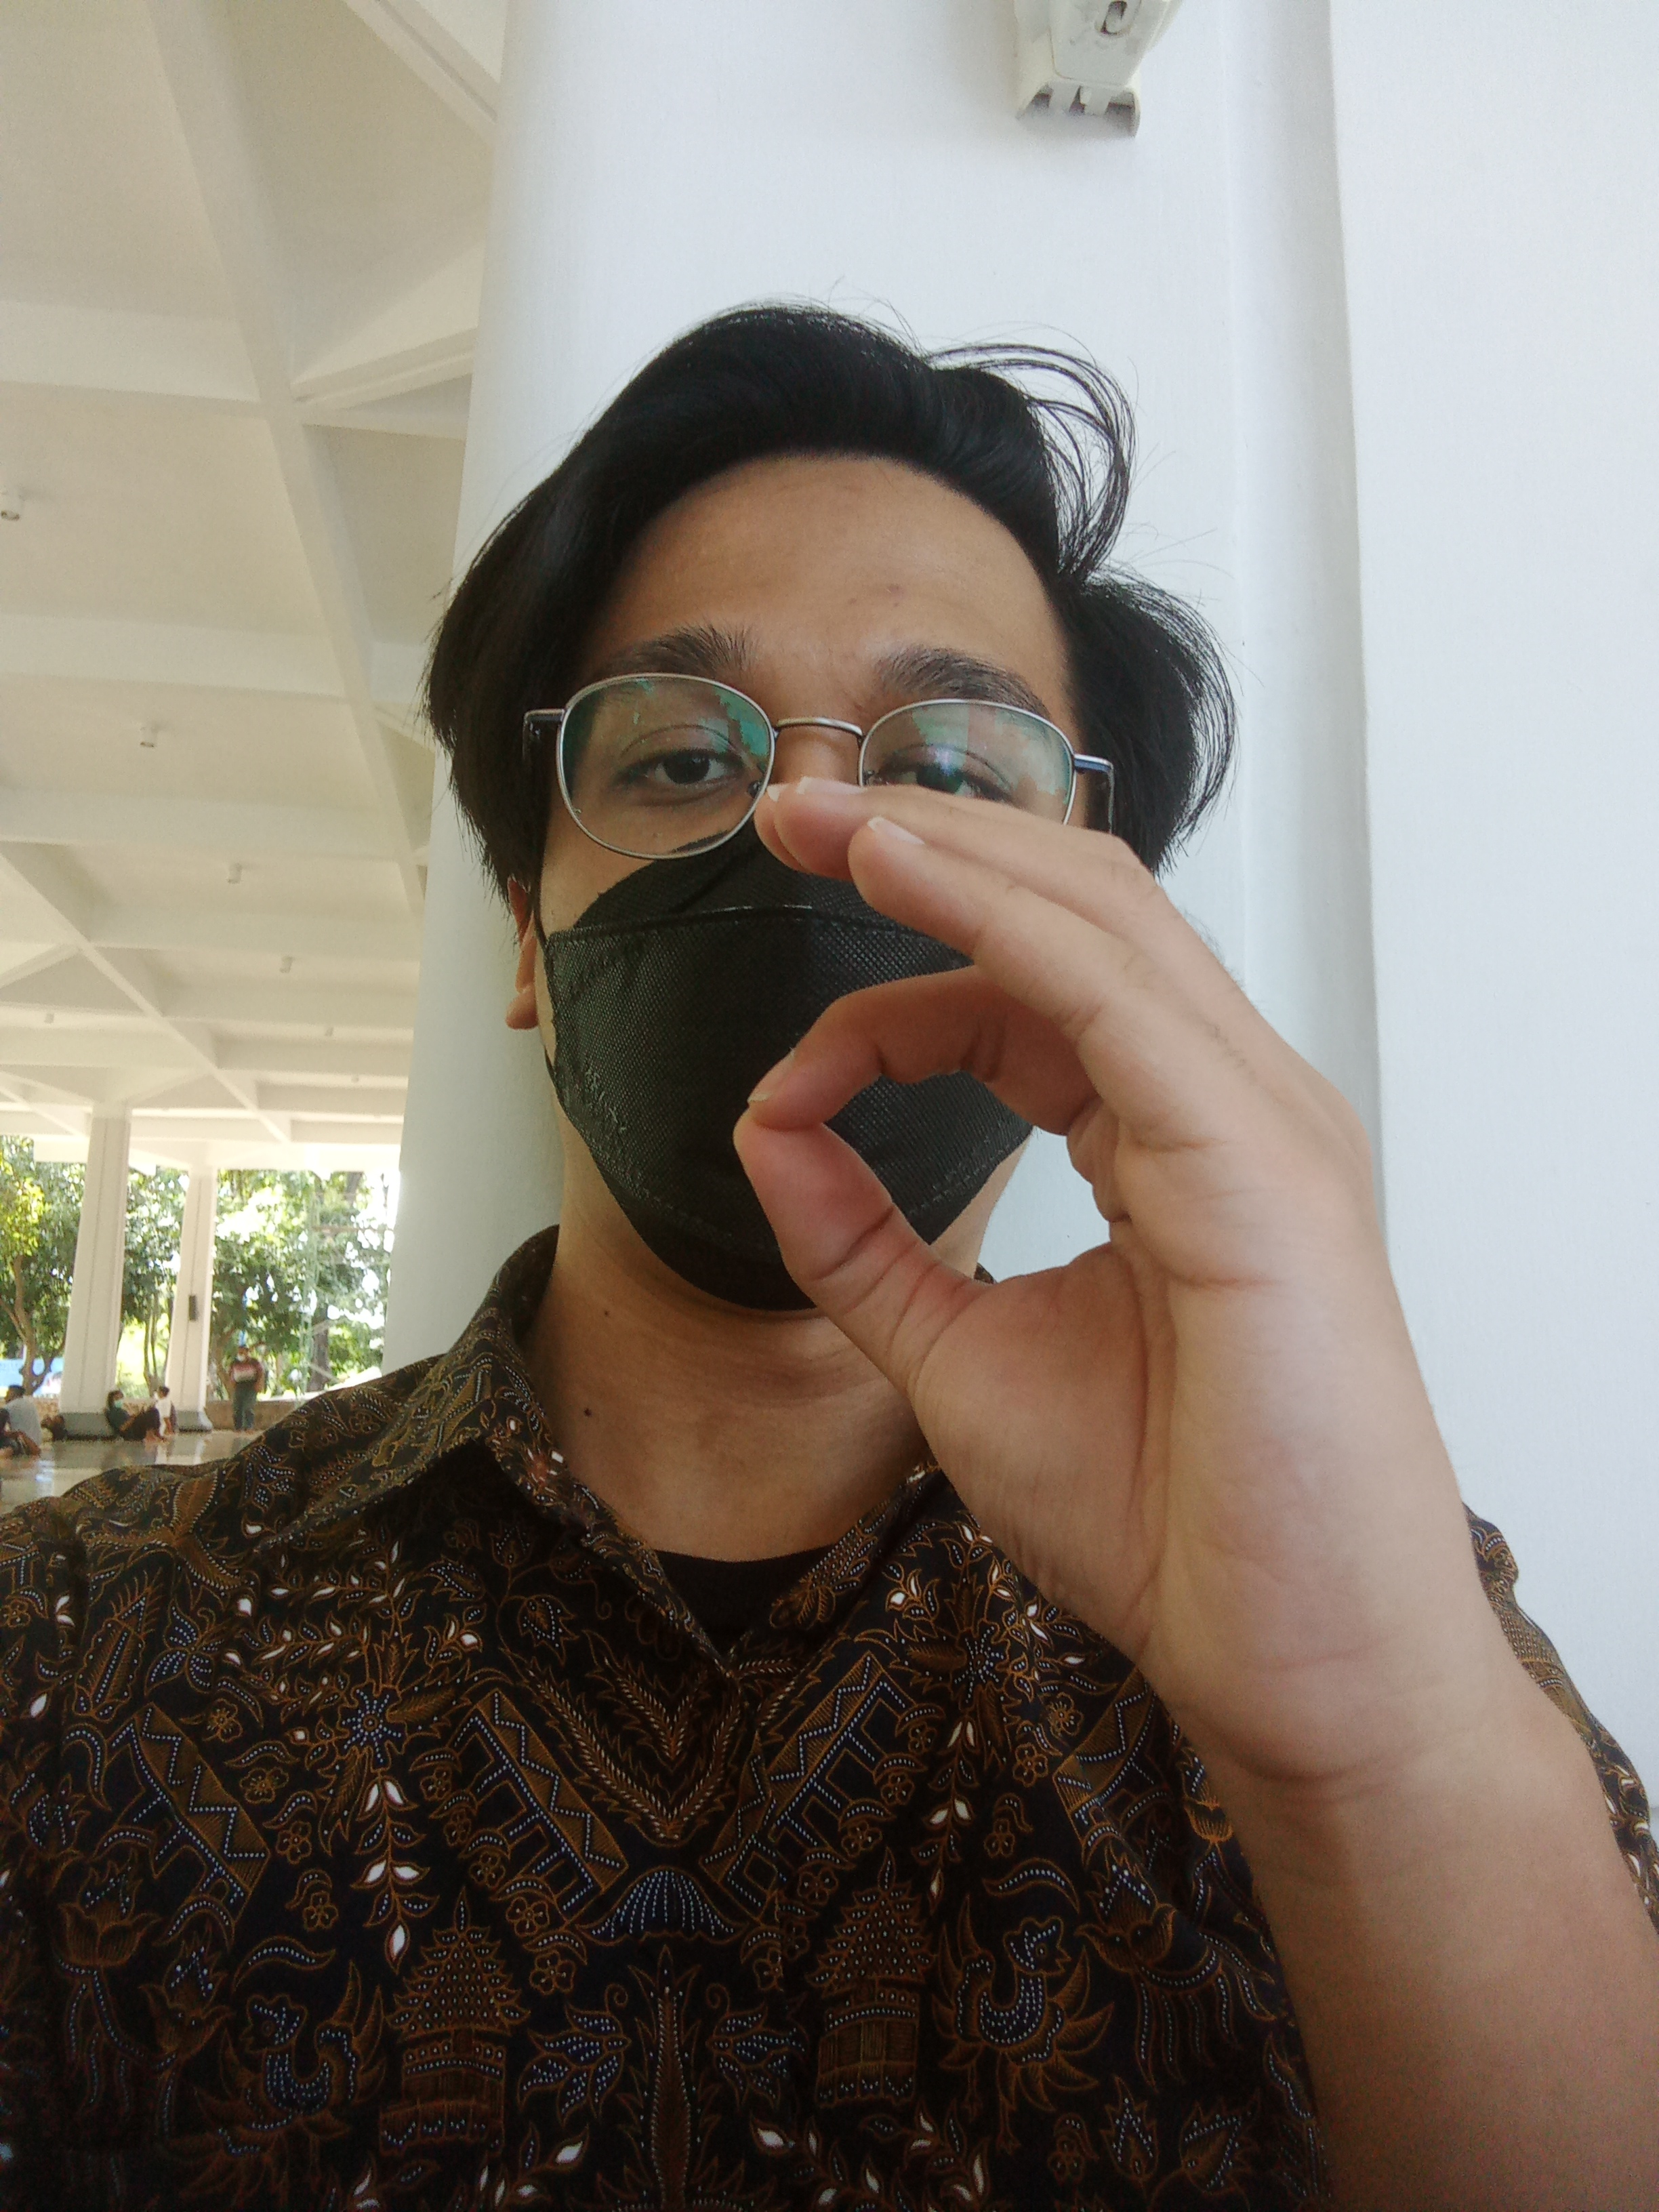O: (704, 758, 1605, 1815)
